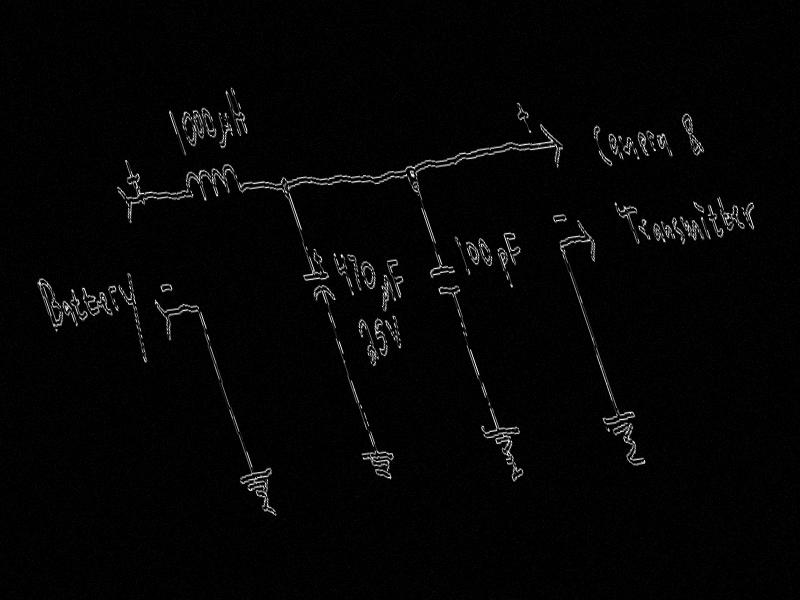-: (157, 279, 175, 295), (550, 211, 569, 225)
0: (176, 108, 203, 149), (356, 257, 382, 296), (198, 103, 220, 139), (474, 235, 497, 269), (188, 106, 209, 141), (463, 238, 484, 268)
1: (165, 105, 189, 157), (453, 233, 473, 278)
2: (354, 315, 383, 369)
4: (330, 246, 359, 299)
5: (368, 315, 395, 360)
7: (345, 250, 368, 294)
8: (678, 111, 708, 161)
9: (654, 130, 676, 163), (605, 130, 626, 164)
F: (384, 256, 411, 301), (501, 227, 527, 267)
H: (221, 83, 253, 137)
V: (382, 313, 407, 351), (737, 198, 763, 232), (635, 216, 655, 244)
m: (678, 210, 707, 245), (616, 131, 642, 163)
n: (658, 217, 677, 241)
p: (494, 244, 520, 291)
u: (207, 107, 240, 150), (370, 273, 401, 314)
